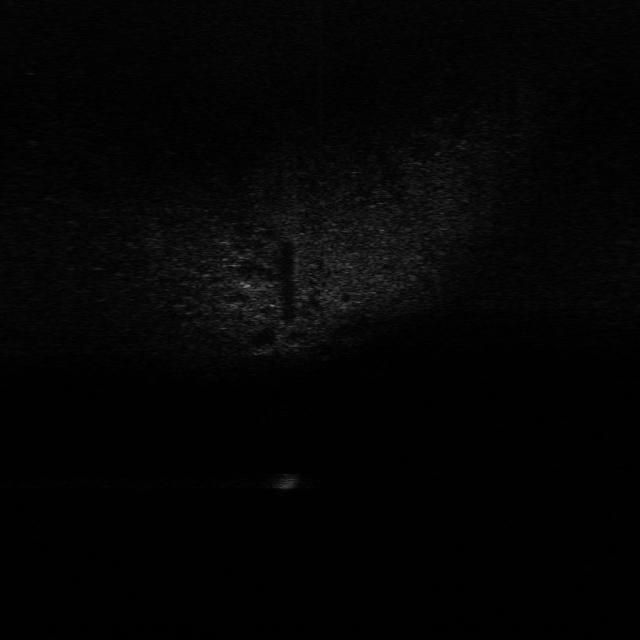cylinder: (274, 469, 304, 489)
